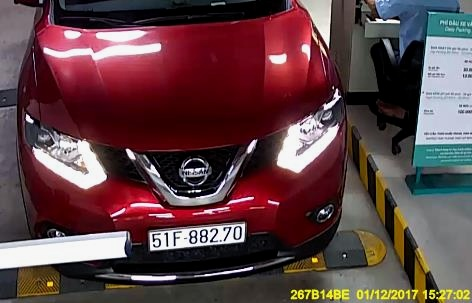plate: (145, 223, 246, 256)
